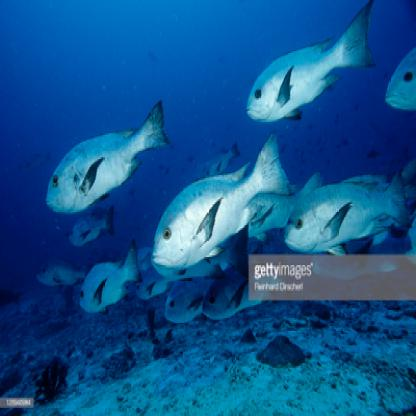snapper: (152, 127, 296, 273), (242, 1, 382, 123), (45, 94, 175, 218), (70, 231, 151, 324)
